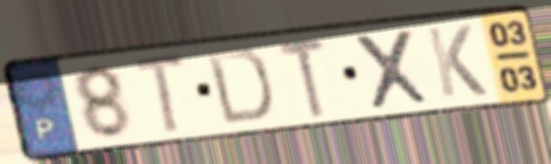8: (68, 62, 137, 141)
D: (202, 45, 275, 127)
K: (422, 22, 491, 100)
T: (129, 50, 190, 139), (274, 36, 331, 120)
X: (349, 25, 435, 112)
